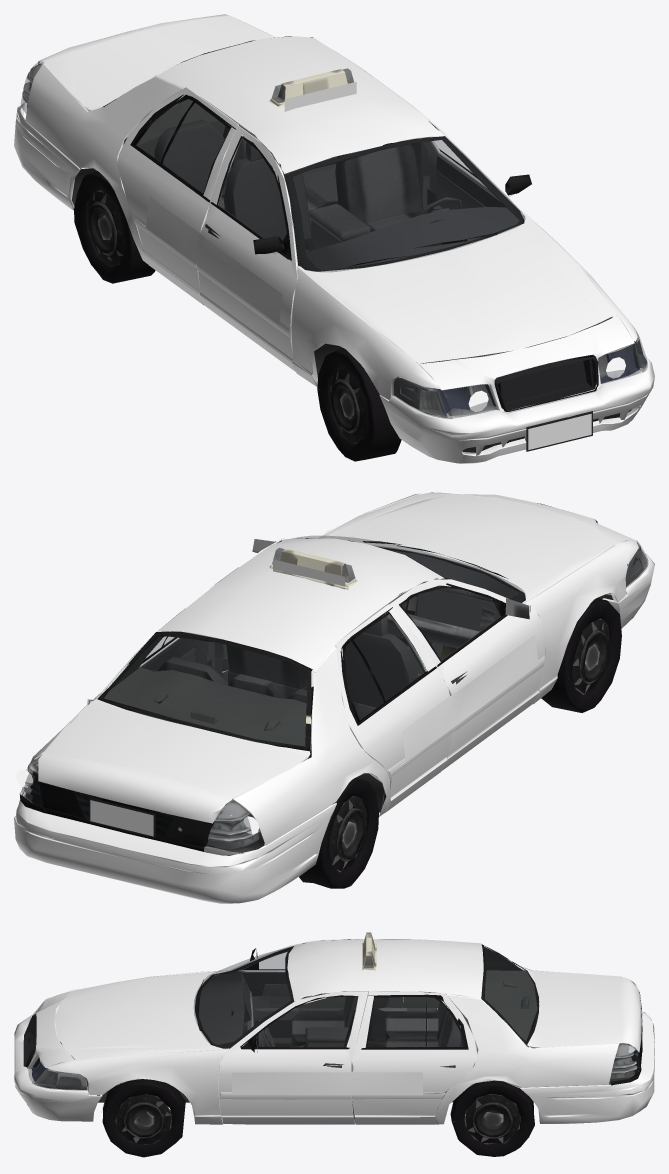
Rendered from taxi.glb.
3 renders of one model, top to bottom at view 1: azimuth 30°, elevation 25°; view 2: azimuth 150°, elevation 25°; view 3: azimuth 270°, elevation 25°, orthographic. The views are drawn at different scales.
Visible parts, largest first — view 1: body, wheel_fr, wheel_rr, decal:taxiDoor, decal:plateF, decal:taxiSign, glow; view 2: body, wheel_fr, wheel_rr, decal:taxiDoor, decal:plateR, decal:taxiSign; view 3: body, wheel_fl, wheel_rl, decal:taxiDoor.
Boxes of the visible parts, x1,y1,x2,y2 form: body: [14, 14, 654, 463]; wheel_fr: [317, 348, 401, 461]; wheel_rr: [74, 171, 155, 283]; decal:taxiDoor: [146, 197, 282, 324]; decal:plateF: [528, 413, 591, 449]; decal:taxiSign: [284, 82, 356, 111]; glow: [468, 357, 625, 411]; body: [14, 492, 654, 903]; wheel_fr: [541, 598, 621, 712]; wheel_rr: [299, 778, 378, 888]; decal:taxiDoor: [401, 634, 538, 762]; decal:plateR: [90, 800, 153, 836]; decal:taxiSign: [273, 559, 344, 589]; body: [14, 932, 654, 1124]; wheel_fl: [102, 1079, 185, 1157]; wheel_rl: [450, 1080, 534, 1156]; decal:taxiDoor: [232, 1072, 422, 1095].
Bounding box in the file's own units: 1.93 × 1.64 × 5.36.
Materials: 7 (2 with a texture image).
